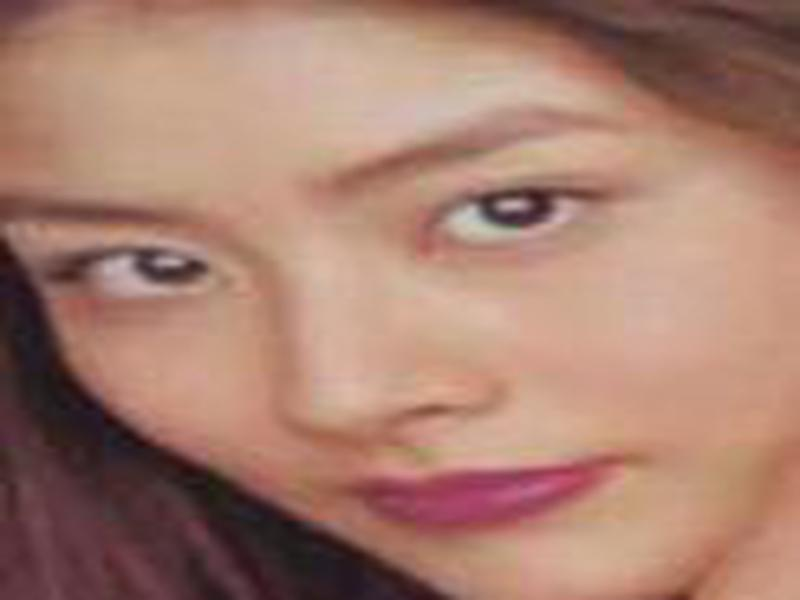without_mask: (1, 33, 761, 597)
